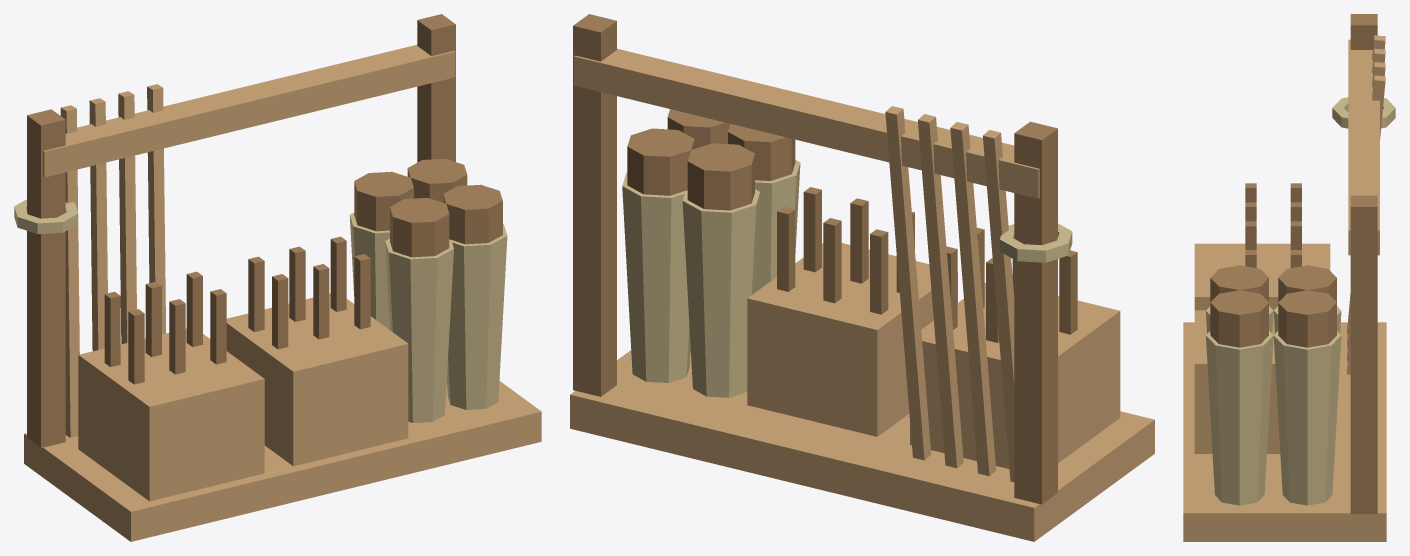
The model's file is missile-stock-rack.glb.
3 renders of one model, left to right at view 1: azimuth 30°, elevation 25°; view 2: azimuth 150°, elevation 25°; view 3: azimuth 270°, elevation 25°, orthographic. The views are drawn at different scales.
Parts seen in each view (by area): view 1: missile-stock-rack; view 2: missile-stock-rack; view 3: missile-stock-rack.
Boxes of the visible parts, x1,y1,x2,y2 form: missile-stock-rack: (14,14,541,541); missile-stock-rack: (570,14,1154,541); missile-stock-rack: (1183,14,1395,541).
Bounding box in the file's own units: 2.1 × 1.64 × 0.9399.
